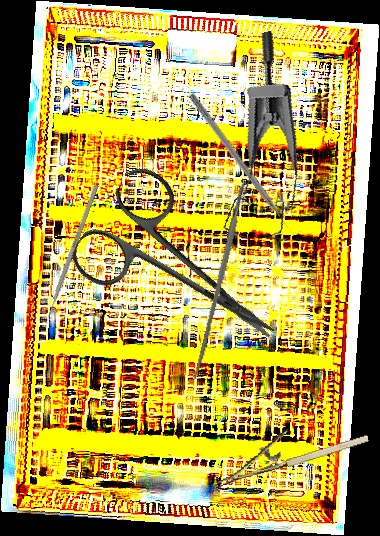Iris Scissors: (63, 160, 307, 388)
Needle Holder: (209, 409, 371, 487)
Pusher: (186, 92, 297, 239), (41, 184, 99, 331)
Scalpel Handle: (191, 181, 249, 381)
Speculum: (174, 29, 331, 256)
